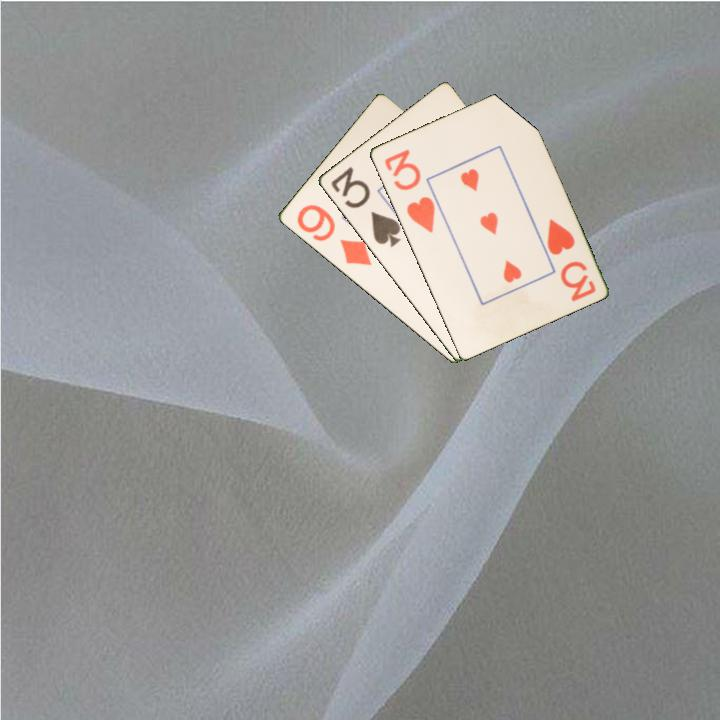3h: (380, 145, 438, 236), (543, 215, 598, 305)
3s: (327, 163, 404, 250)
9d: (293, 201, 374, 269)
